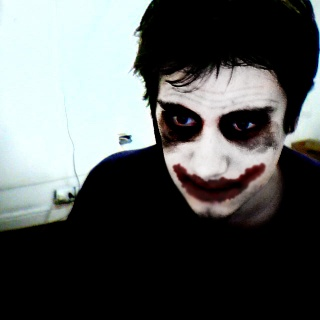without_mask: (155, 64, 288, 222)
